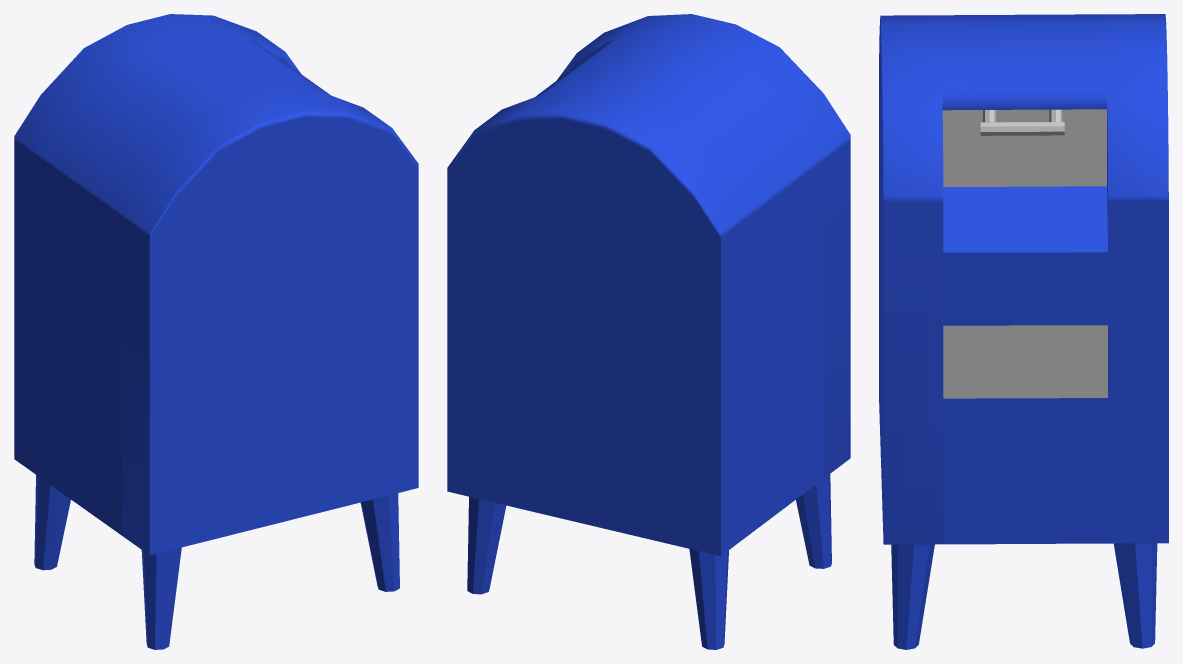
The model's file is _ailbox.fbx.
3 renders of one model, left to right at view 1: azimuth 30°, elevation 25°; view 2: azimuth 150°, elevation 25°; view 3: azimuth 270°, elevation 25°, orthographic. The views are drawn at different scales.
Visible parts, largest first — view 1: polySurface14; view 2: polySurface14; view 3: polySurface14.
Boxes of the visible parts, x1=… form: polySurface14: x1=14, y1=14, x2=418, y2=649; polySurface14: x1=447, y1=14, x2=850, y2=649; polySurface14: x1=879, y1=14, x2=1168, y2=649.
Size of the model in its own units: 3.22 by 5.71 by 2.74.
